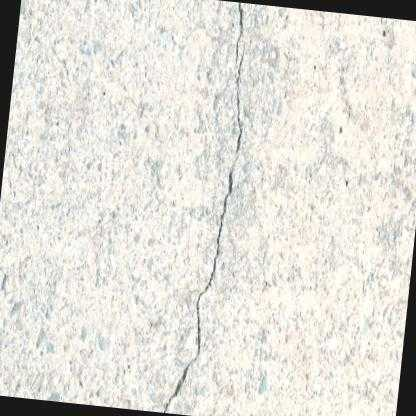crack: (162, 169, 232, 413), (236, 50, 244, 152), (235, 2, 242, 61)
